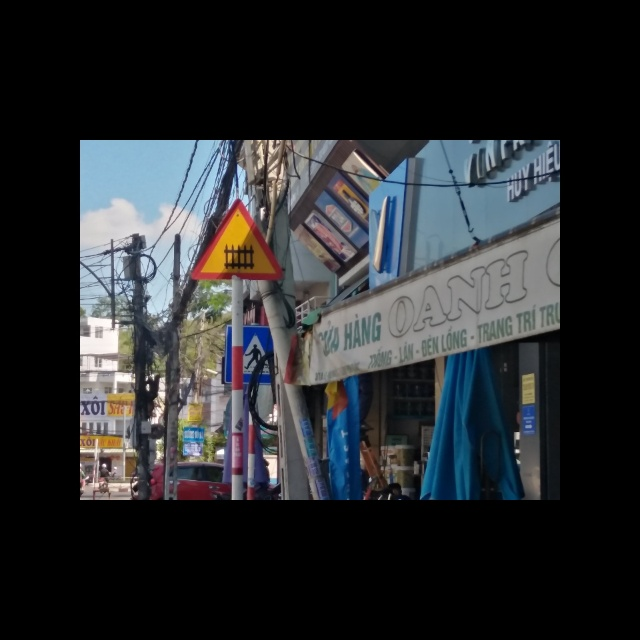Giao nhau với đường sắt có rào chắn: (188, 196, 285, 280)
